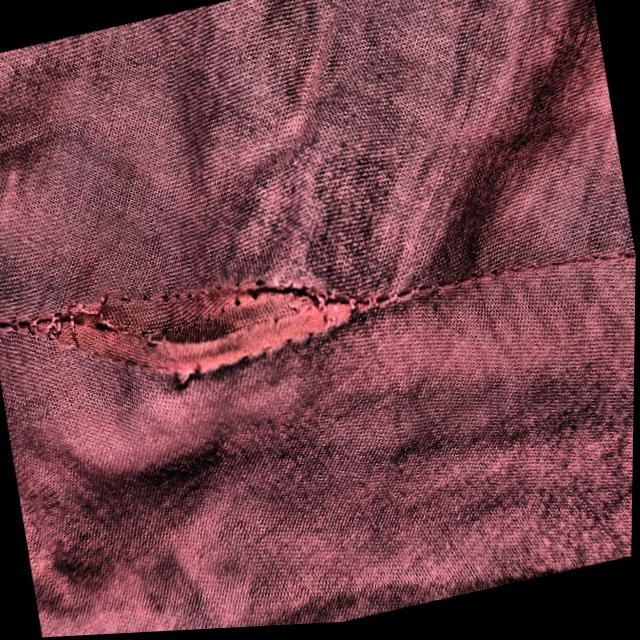seam: (1, 154, 475, 481)
